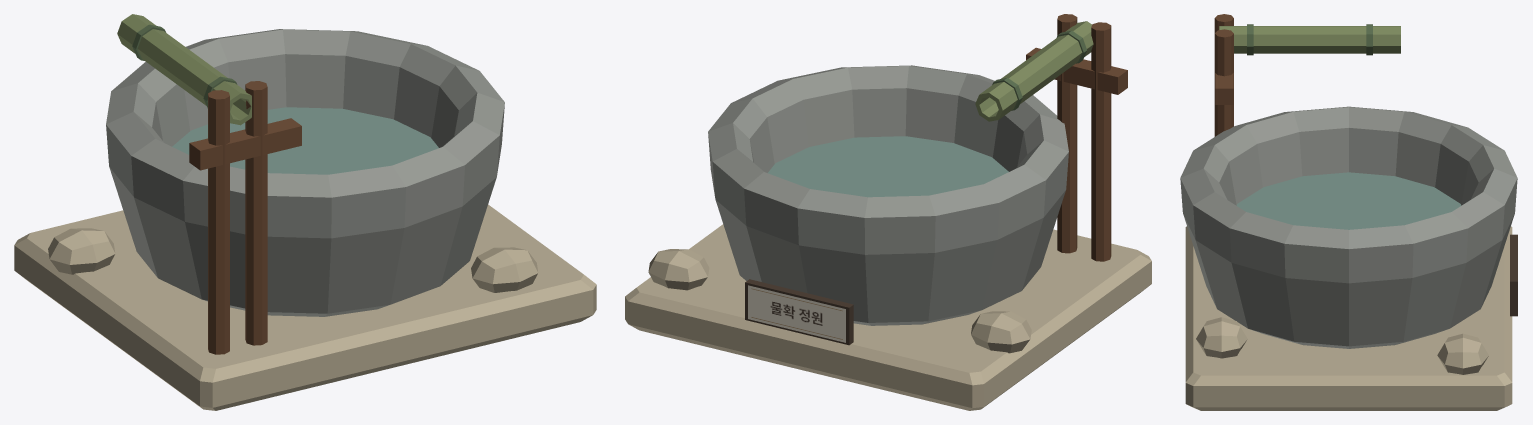
Rendered from W03_Stone_Water_Basin.fbx.
3 views of the same model, side by side, from view 1: azimuth 30°, elevation 25°; view 2: azimuth 150°, elevation 25°; view 3: azimuth 270°, elevation 25° (orthographic). The views are drawn at different scales.
Visible parts, largest first — view 1: Stone_Basin, Bamboo_Spout, Water_Surface, Basin_Accents; view 2: Stone_Basin, Bamboo_Spout, Water_Surface, Front_Label, Basin_Accents; view 3: Stone_Basin, Water_Surface, Bamboo_Spout, Basin_Accents, Front_Label.
Boxes of the visible parts, x1=… form: Stone_Basin: x1=14, y1=29, x2=596, y2=410; Bamboo_Spout: x1=117, y1=14, x2=301, y2=354; Water_Surface: x1=172, y1=107, x2=438, y2=174; Basin_Accents: x1=48, y1=228, x2=538, y2=292; Stone_Basin: x1=625, y1=65, x2=1151, y2=410; Bamboo_Spout: x1=975, y1=14, x2=1127, y2=261; Water_Surface: x1=768, y1=136, x2=1008, y2=197; Front_Label: x1=745, y1=279, x2=853, y2=345; Basin_Accents: x1=648, y1=249, x2=1031, y2=353; Stone_Basin: x1=1180, y1=106, x2=1517, y2=410; Water_Surface: x1=1236, y1=172, x2=1461, y2=229; Bamboo_Spout: x1=1214, y1=14, x2=1400, y2=136; Basin_Accents: x1=1196, y1=317, x2=1488, y2=374; Front_Label: x1=1510, y1=234, x2=1517, y2=316.
Size of the model in its own units: 1.51 by 1.06 by 1.3.
Materials: 8 (1 with a texture image).
